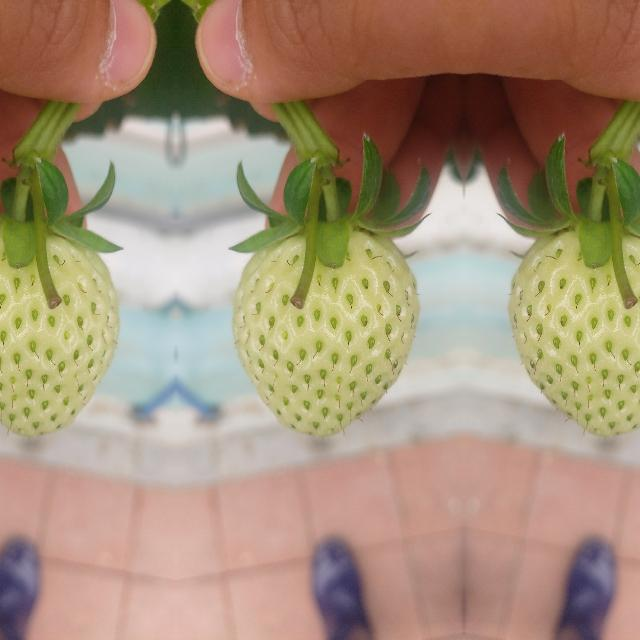Health_25: (232, 230, 418, 436), (507, 230, 640, 436), (0, 230, 118, 436)
